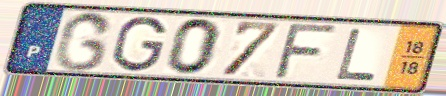0: (162, 17, 228, 77)
7: (222, 20, 282, 78)
F: (270, 22, 343, 81)
G: (51, 9, 116, 74), (110, 15, 169, 74)
L: (333, 27, 380, 83)
